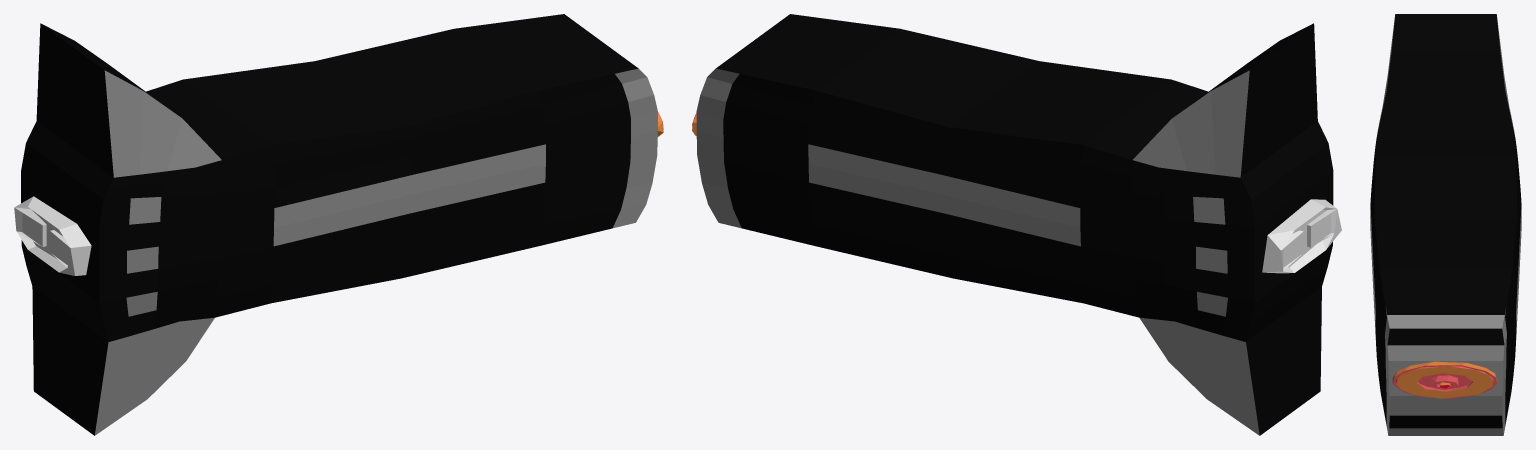
File: CoheteBorrador.fbx
3 renders of one model, left to right at view 1: azimuth 30°, elevation 25°; view 2: azimuth 150°, elevation 25°; view 3: azimuth 270°, elevation 25°, orthographic. The views are drawn at different scales.
Visible parts, largest first — view 1: Plane, Motor; view 2: Plane, Motor; view 3: Plane, Cylinder.
Part boxes in pixels (x1,y1,x2,y2): Plane: [21, 14, 657, 435]; Motor: [14, 196, 91, 275]; Plane: [696, 14, 1333, 435]; Motor: [1262, 199, 1341, 273]; Plane: [1370, 14, 1521, 435]; Cylinder: [1392, 361, 1497, 398].
Bounding box in the file's own units: 254 × 148 × 70.78.
